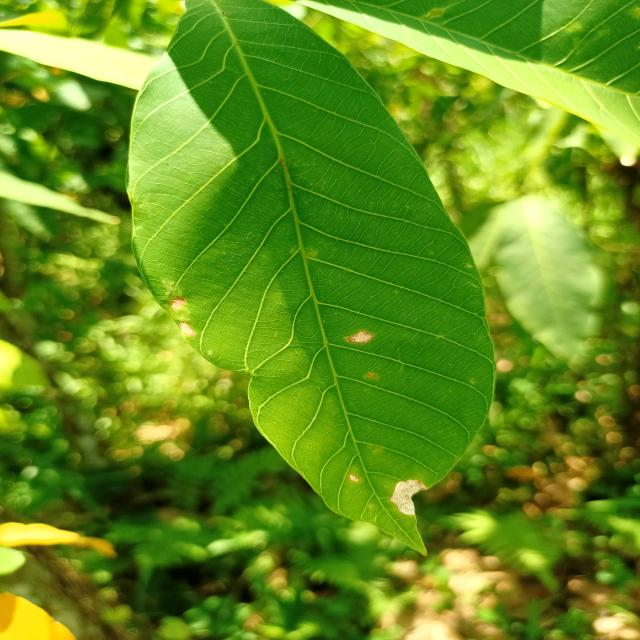Colletotrichum: (369, 372, 374, 377)
Leaf-Blight: (390, 479, 427, 515), (347, 330, 373, 344), (179, 321, 194, 337), (171, 296, 185, 310), (349, 474, 359, 482)
